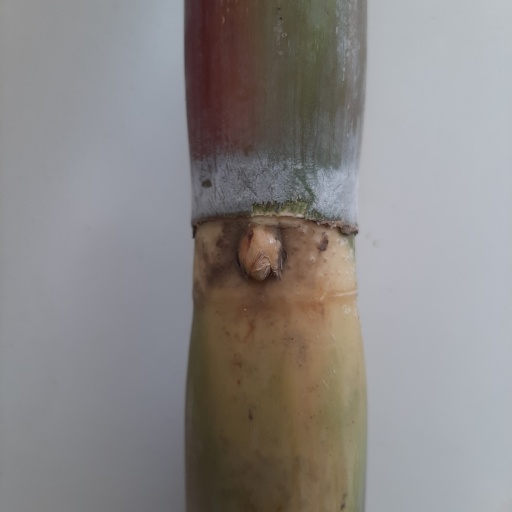Bud: (235, 220, 286, 284)
